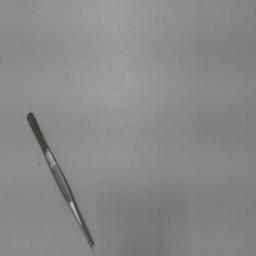Gillies Toothed Dissector: (21, 107, 99, 253)
